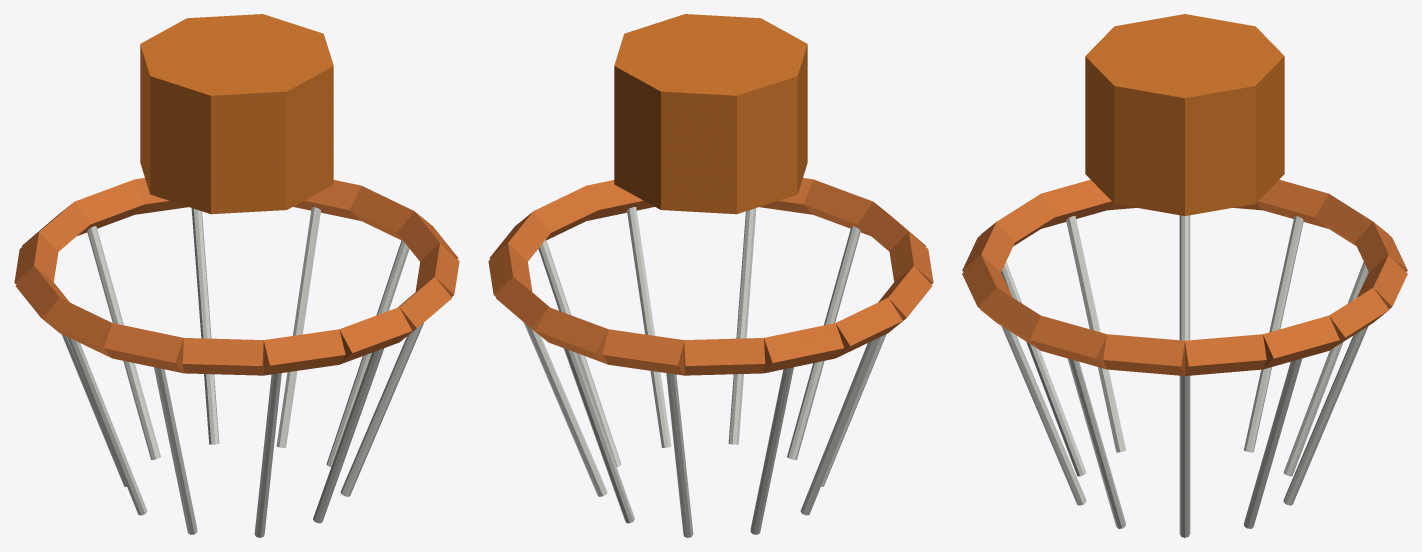
The model's file is swish.glb.
3 views of the same model, side by side, from view 1: azimuth 30°, elevation 25°; view 2: azimuth 150°, elevation 25°; view 3: azimuth 270°, elevation 25° (orthographic).
Visible parts, largest first — view 1: Hoop Swish dimensional effect.001; view 2: Hoop Swish dimensional effect.001; view 3: Hoop Swish dimensional effect.001.
Part boxes in pixels (x1=…): Hoop Swish dimensional effect.001: x1=14, y1=14, x2=459, y2=537; Hoop Swish dimensional effect.001: x1=488, y1=14, x2=933, y2=537; Hoop Swish dimensional effect.001: x1=962, y1=14, x2=1407, y2=537.
Size of the model in its own units: 1.03 by 1.1 by 1.03.
Materials: 3 (3 with a texture image).
